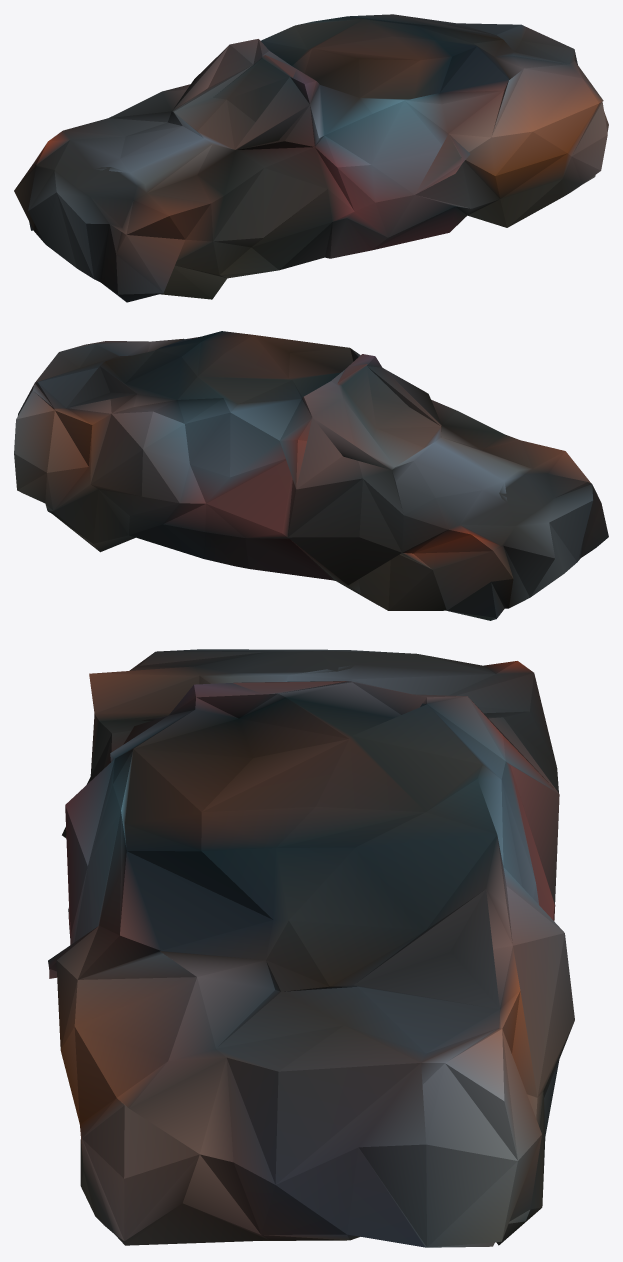
3 views of the same model, one above another, from view 1: azimuth 30°, elevation 25°; view 2: azimuth 150°, elevation 25°; view 3: azimuth 270°, elevation 25° (orthographic). The views are drawn at different scales.
Size of the model in its own units: 4.4 by 1.5 by 1.9.
